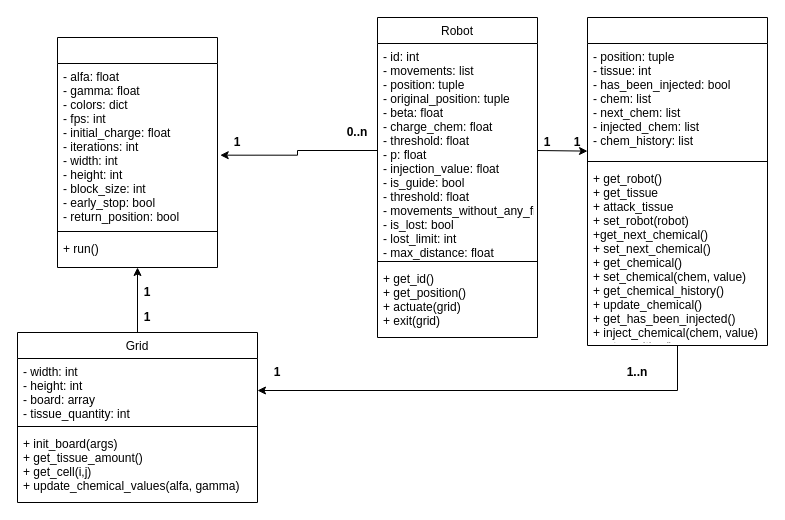
Image size: 785x520. Some labels were removed from this diagram. The box of each missing label's shape, as (x1, y1, x2, y2) in pixels:
Cell: (586, 16, 768, 346)
Simulation: (56, 36, 218, 268)
